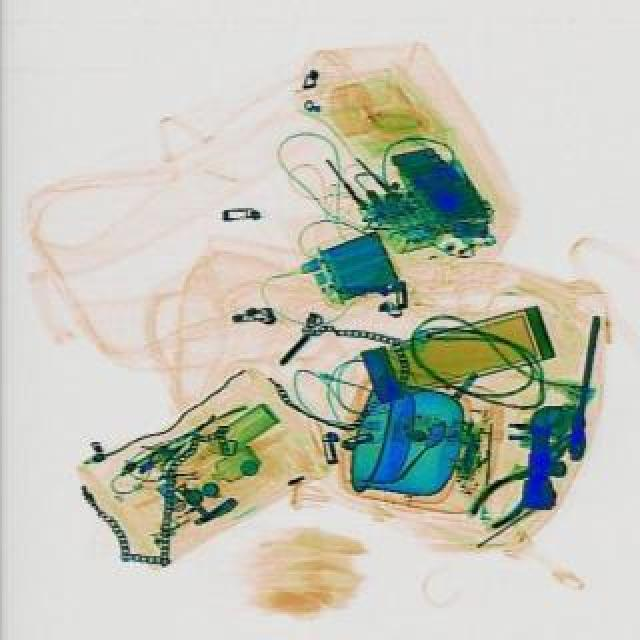wrench: (462, 420, 590, 536)
